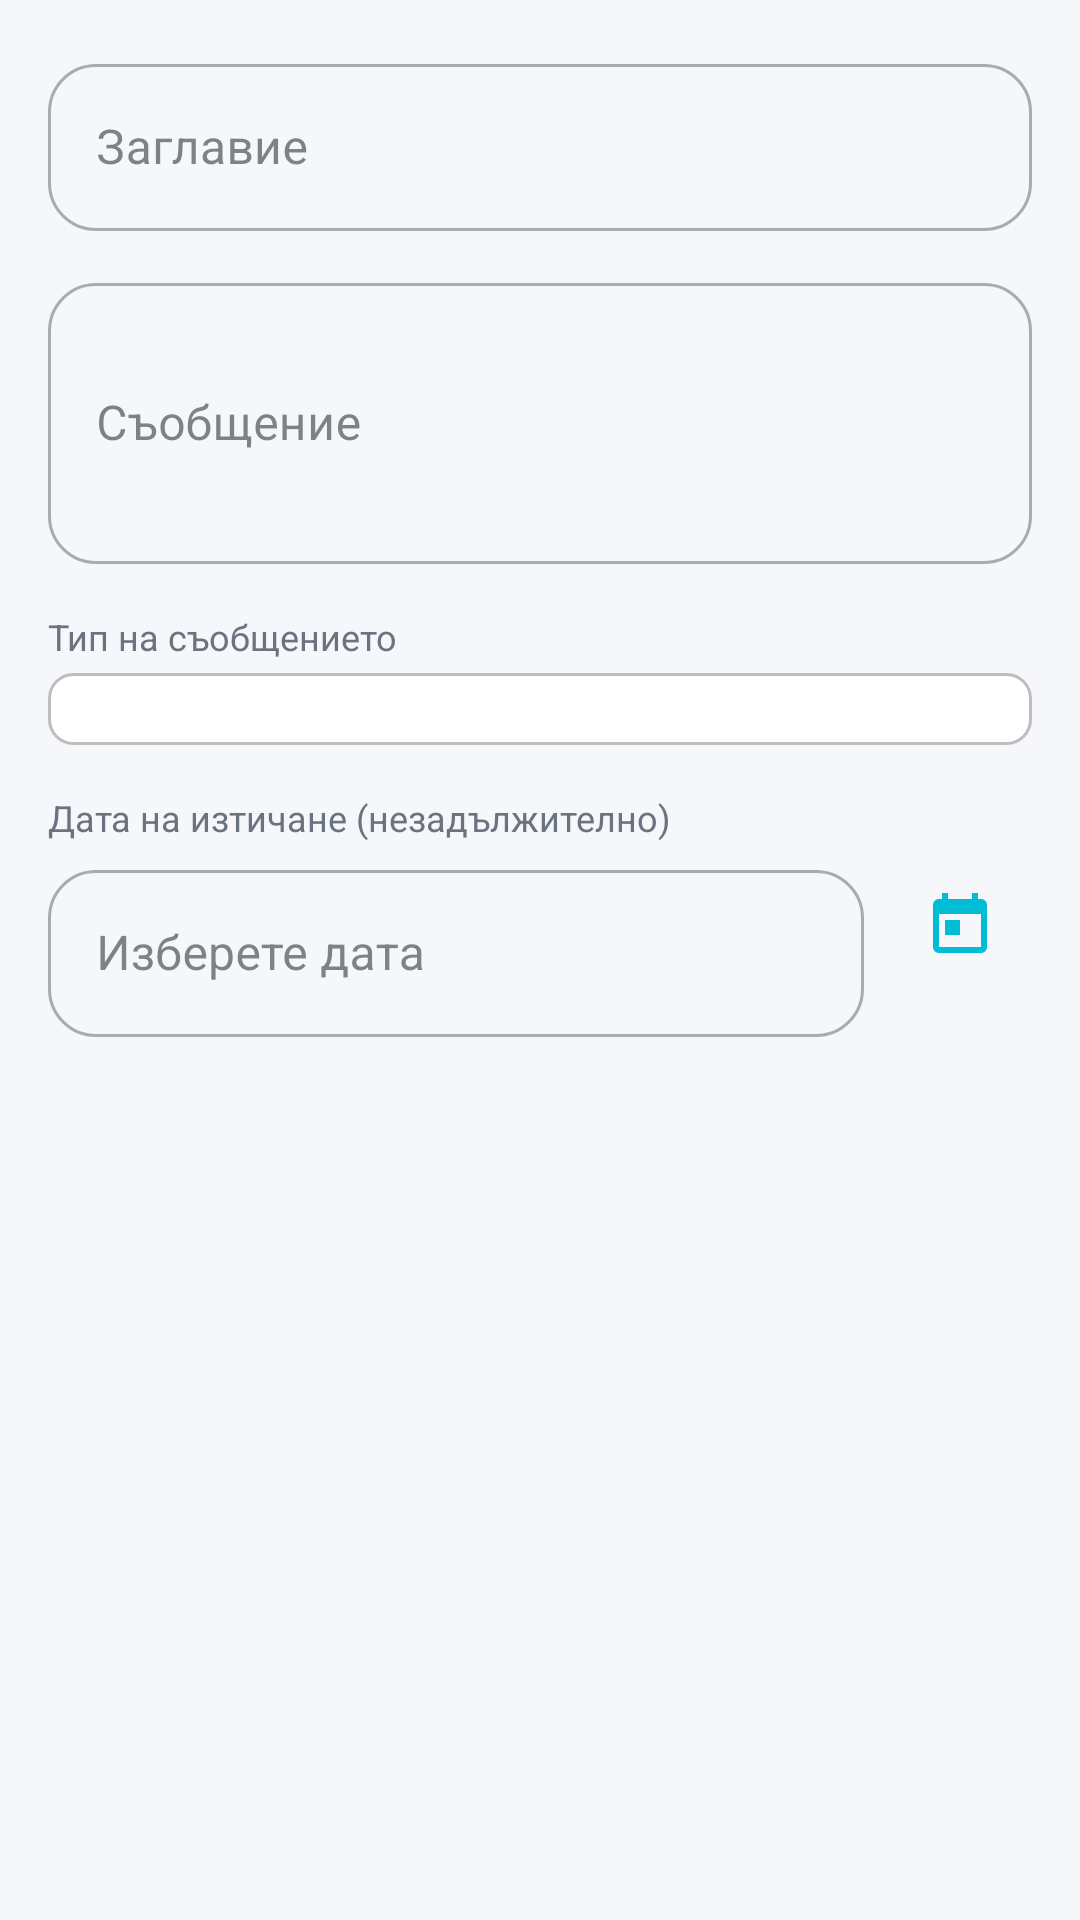

Point at icon controls on the screen. Image size 1080*1920, points as (x,y).
calendar: (960,923)
